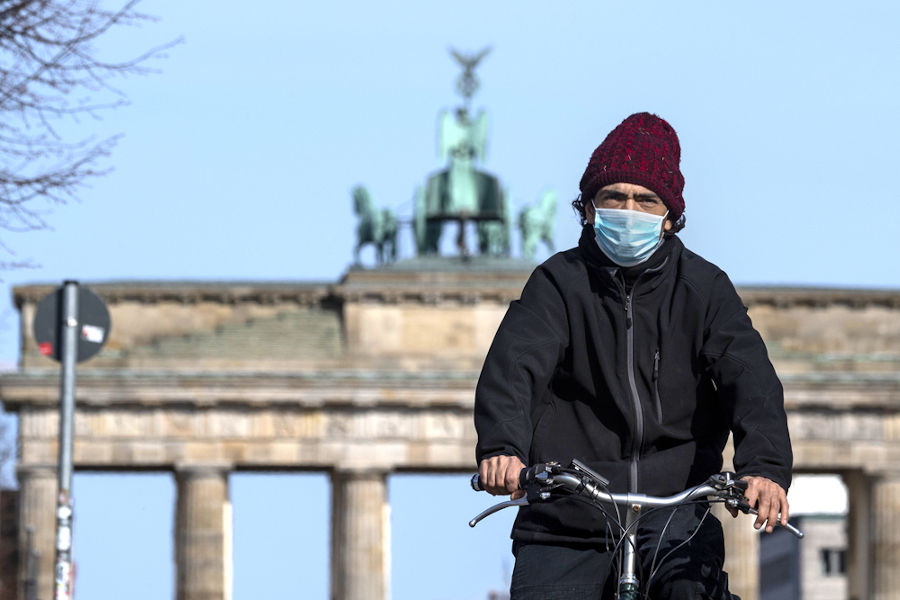with_mask: (592, 173, 675, 273)
